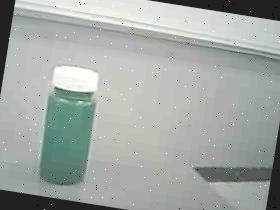Bottle C: (21, 55, 116, 195)
